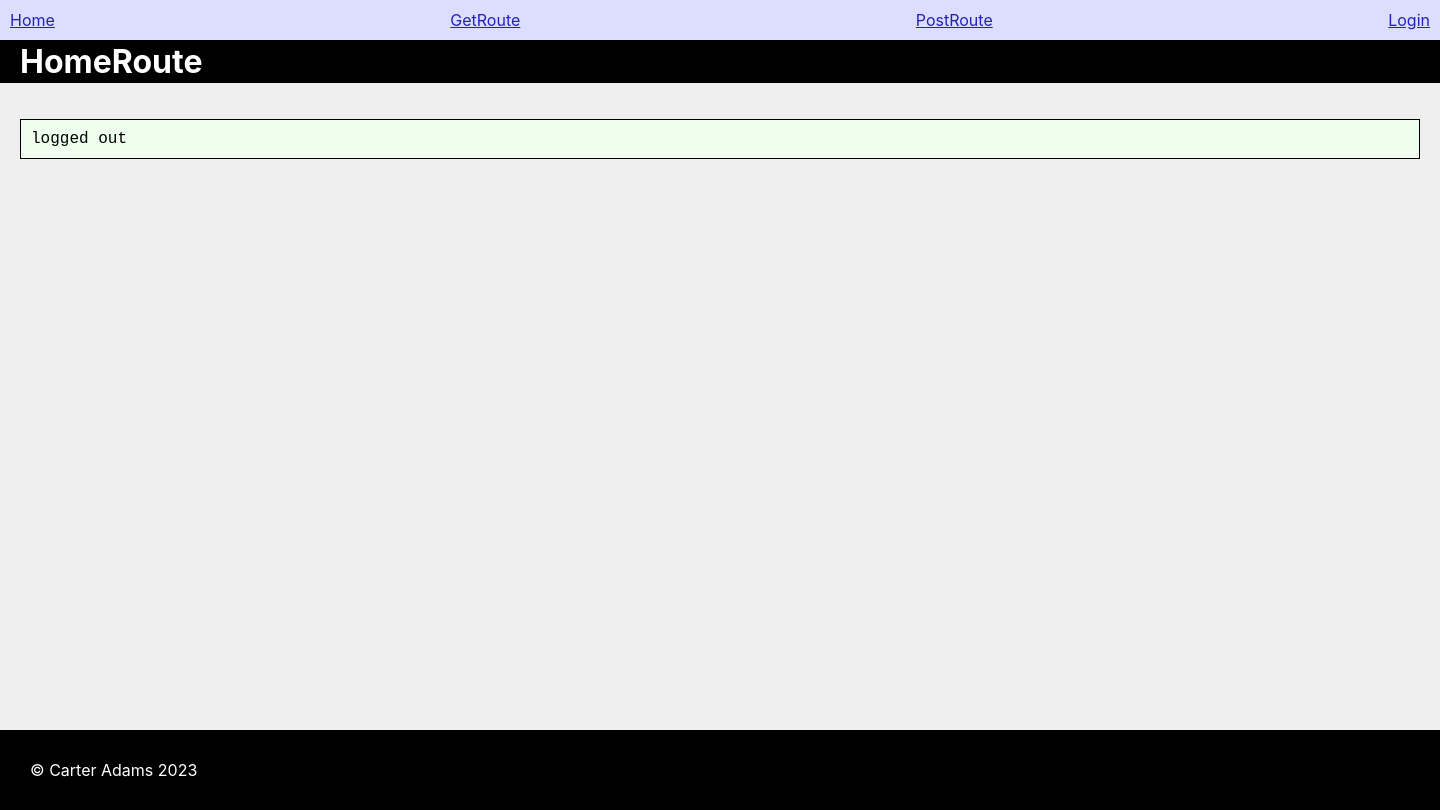
Test: api routes › gets data from get route
The image size is (1440, 810).
Click the link "GetRoute".
click(485, 20)  # box left=450, top=10, right=520, bottom=30
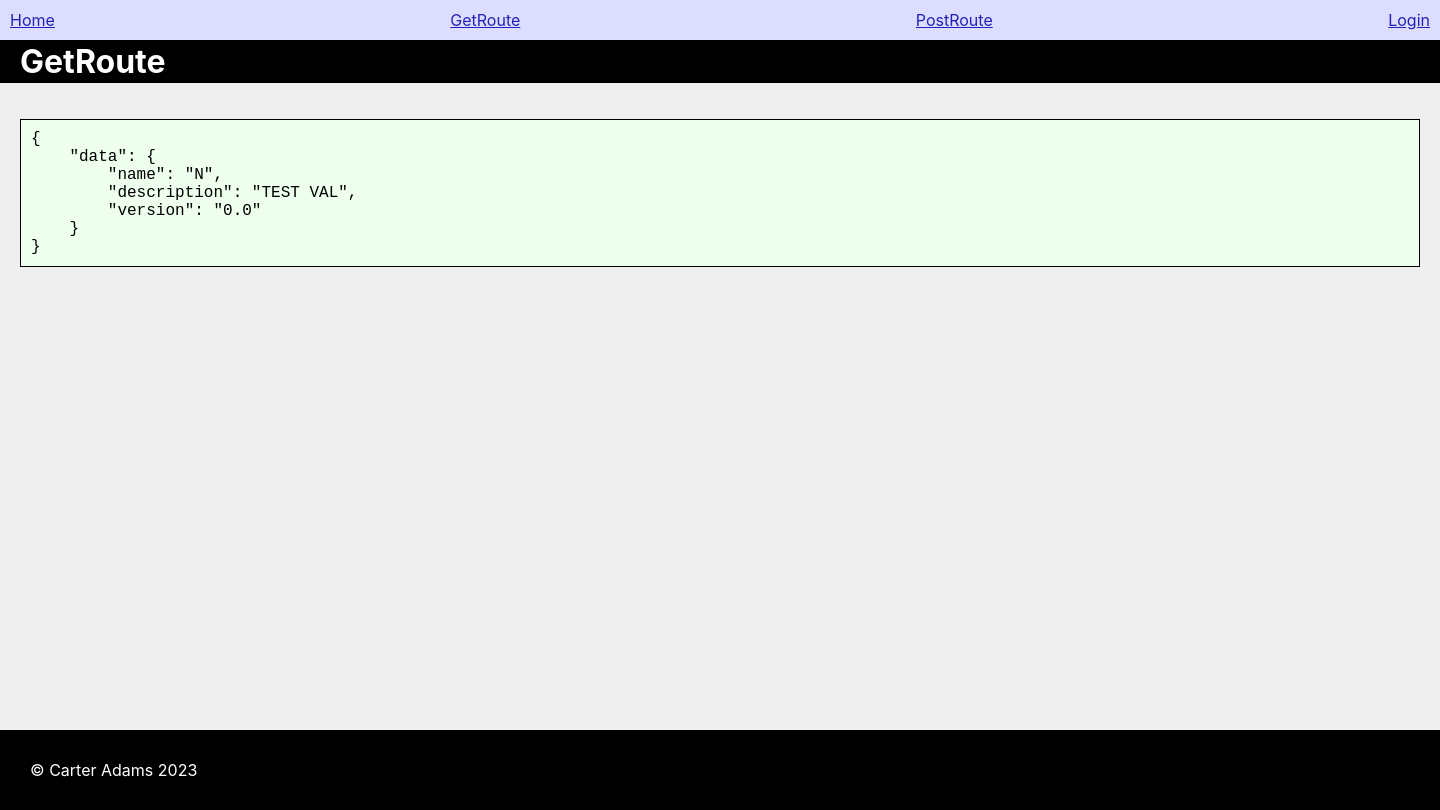
expect the text "TEST VAL" is shown: met, box left=31, top=130, right=358, bottom=256
